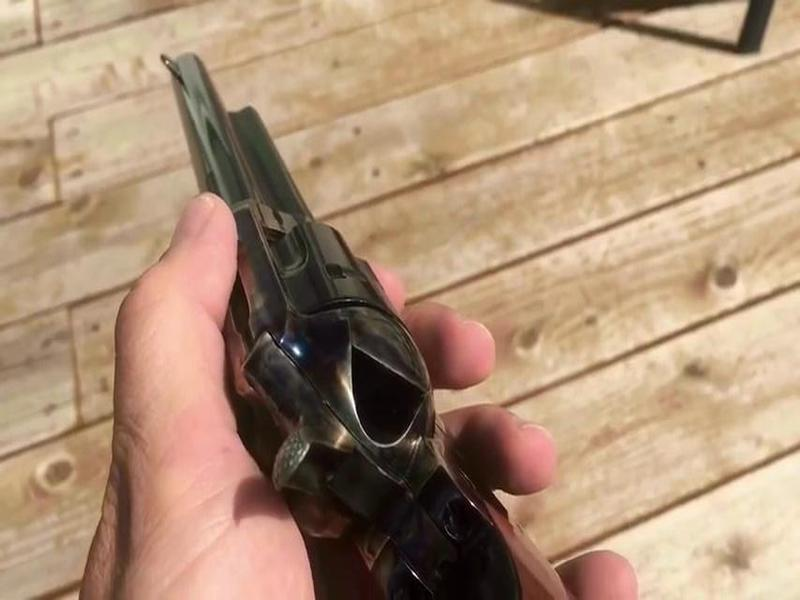Revolver: (145, 62, 456, 600)
